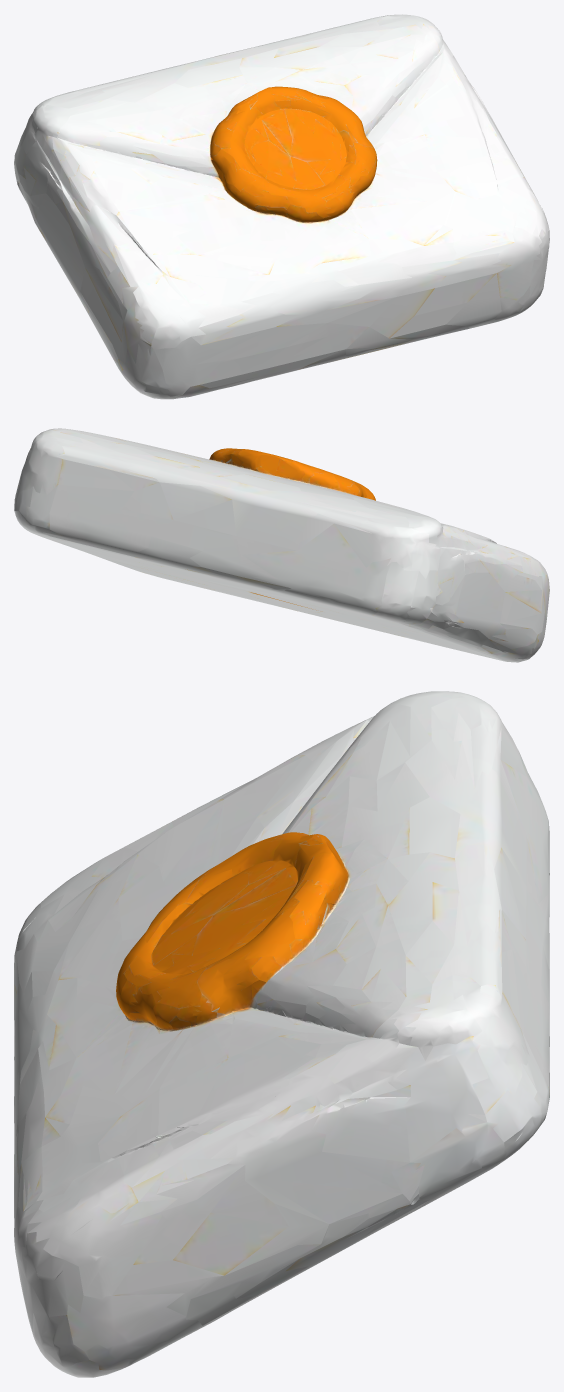
3 renders of one model, top to bottom at view 1: azimuth 30°, elevation 25°; view 2: azimuth 150°, elevation 25°; view 3: azimuth 270°, elevation 25°, orthographic. The views are drawn at different scales.
Size of the model in its own units: 1.9 by 0.9363 by 1.2.
Materials: 1 (1 with a texture image).
